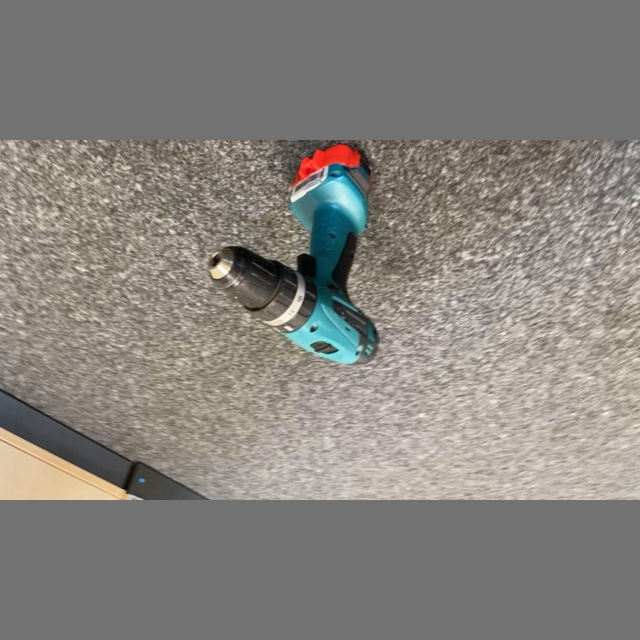drill: (203, 140, 386, 370)
